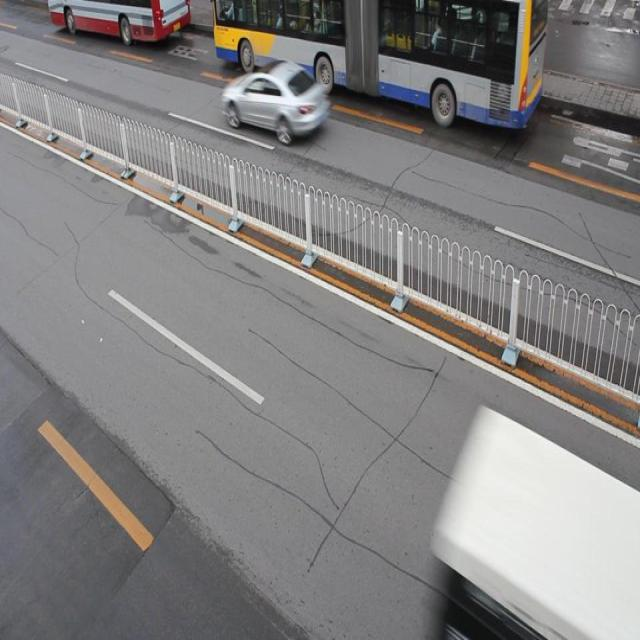car: (223, 57, 330, 142)
truck: (440, 410, 640, 640)
van: (214, 1, 546, 129), (48, 1, 191, 39)
